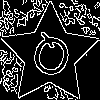Q: (25, 30, 76, 89)
